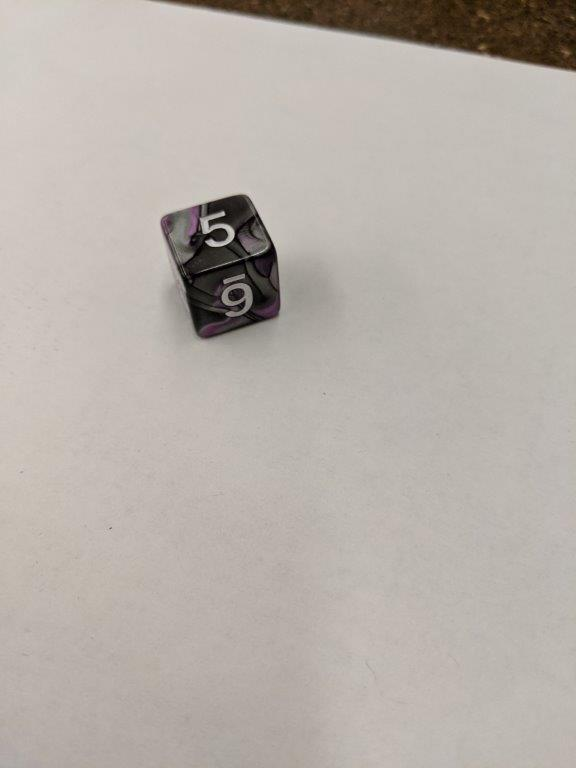d6-5: (163, 194, 280, 334)
